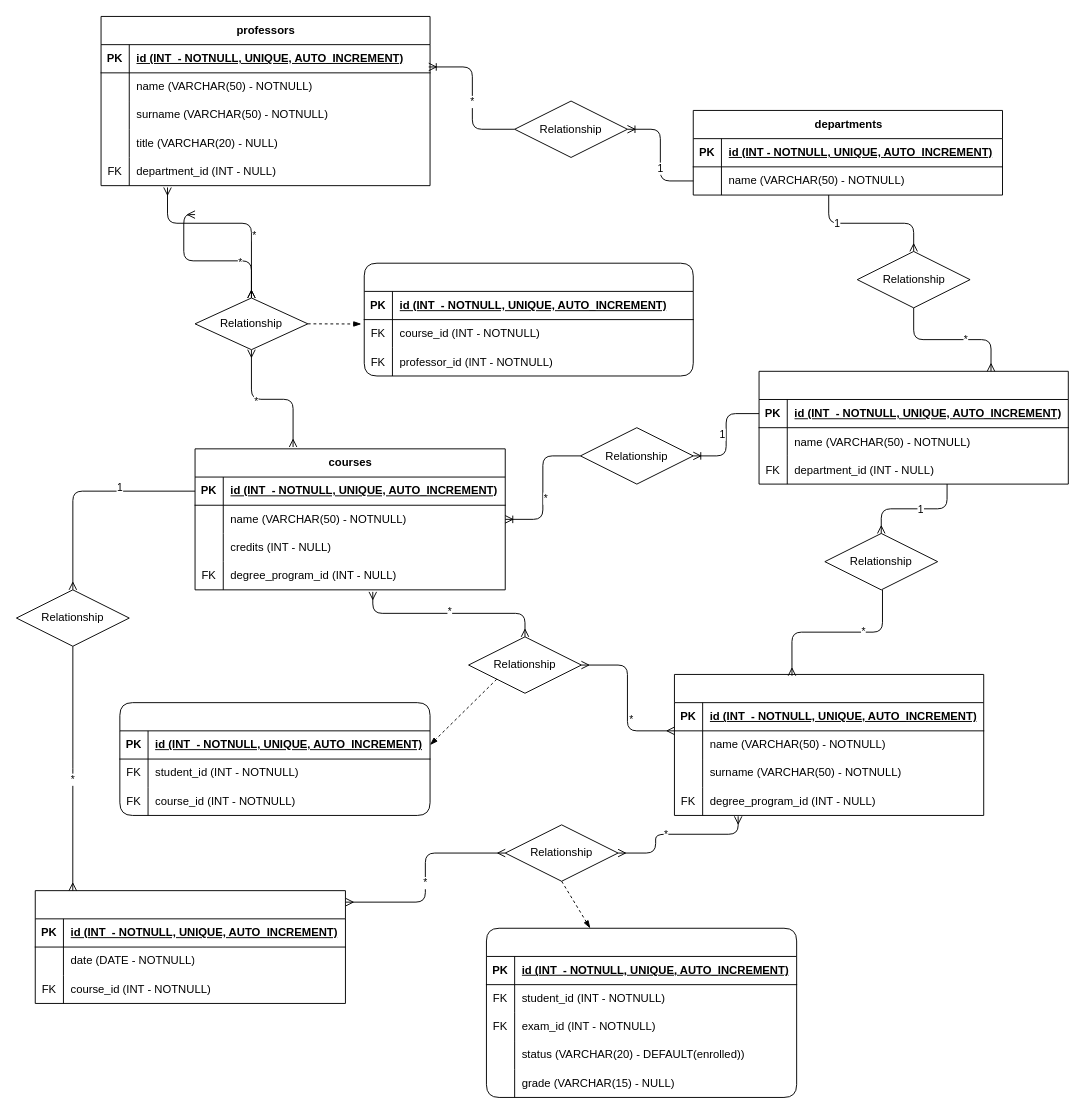
This 1085x1114 diagram has some shape labels left out. The box of each missing label's shape, as (x1, y1, x2, y2) in pixels:
course_professor: (363, 262, 693, 376)
course_student: (119, 702, 430, 815)
degree_programs: (758, 370, 1068, 484)
exam_student: (486, 927, 797, 1097)
exams: (34, 890, 345, 1003)
students: (674, 674, 984, 815)
